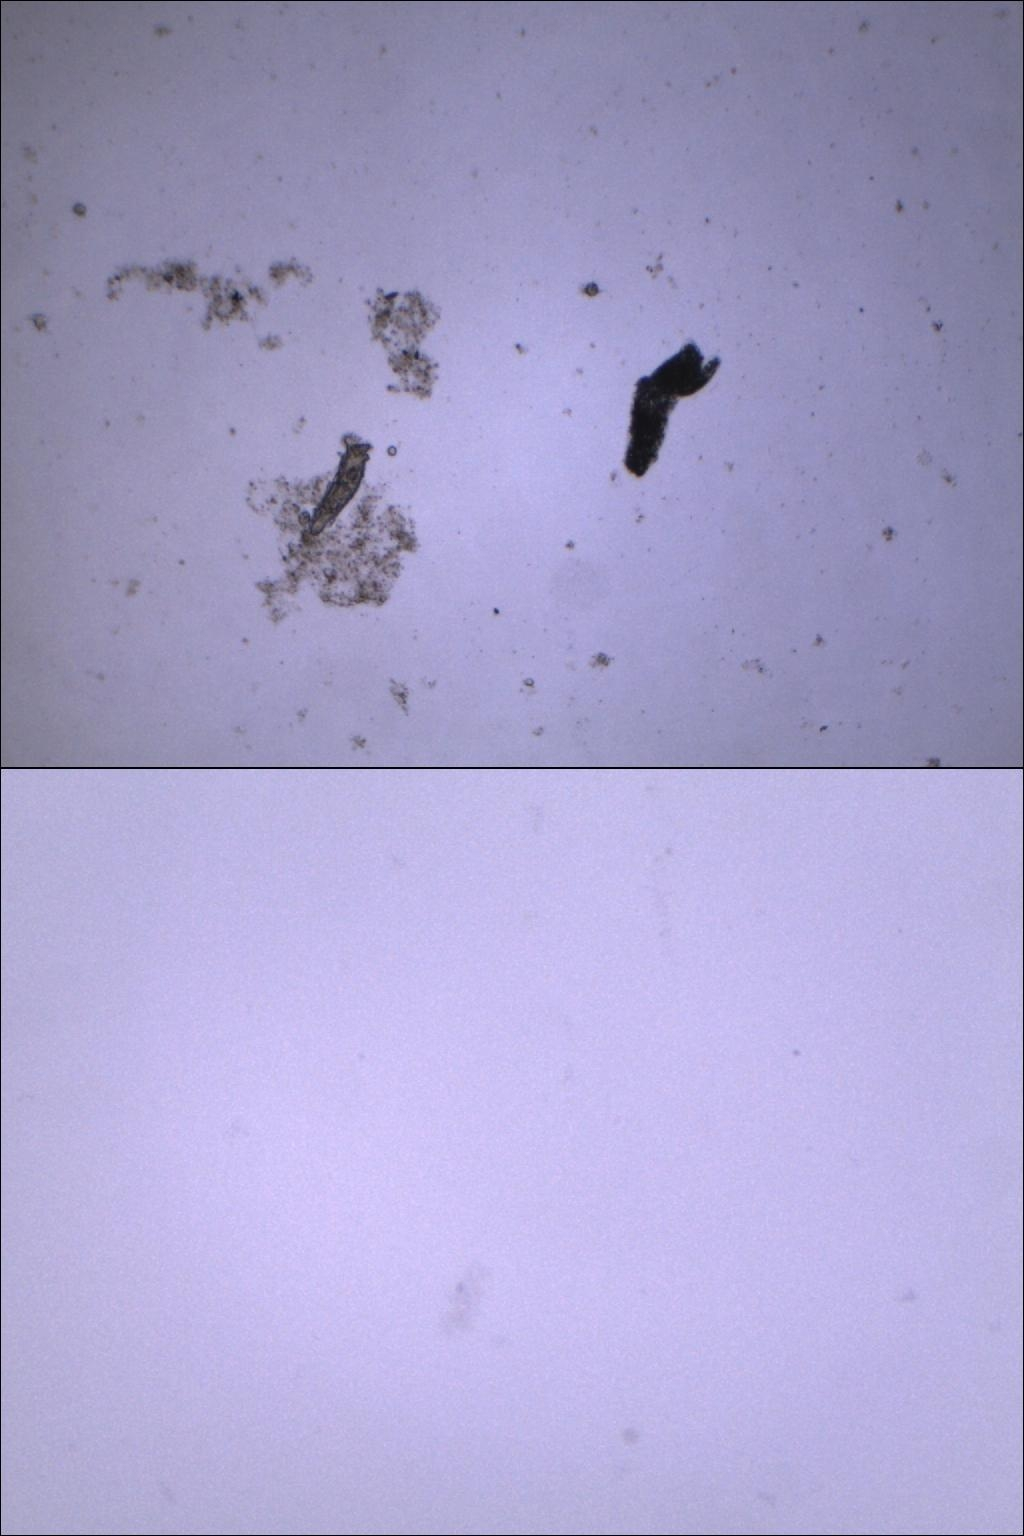N.Fowleri Amoeba: (414, 1227, 509, 1360)
Proteus Amoeba: (609, 326, 735, 493)
